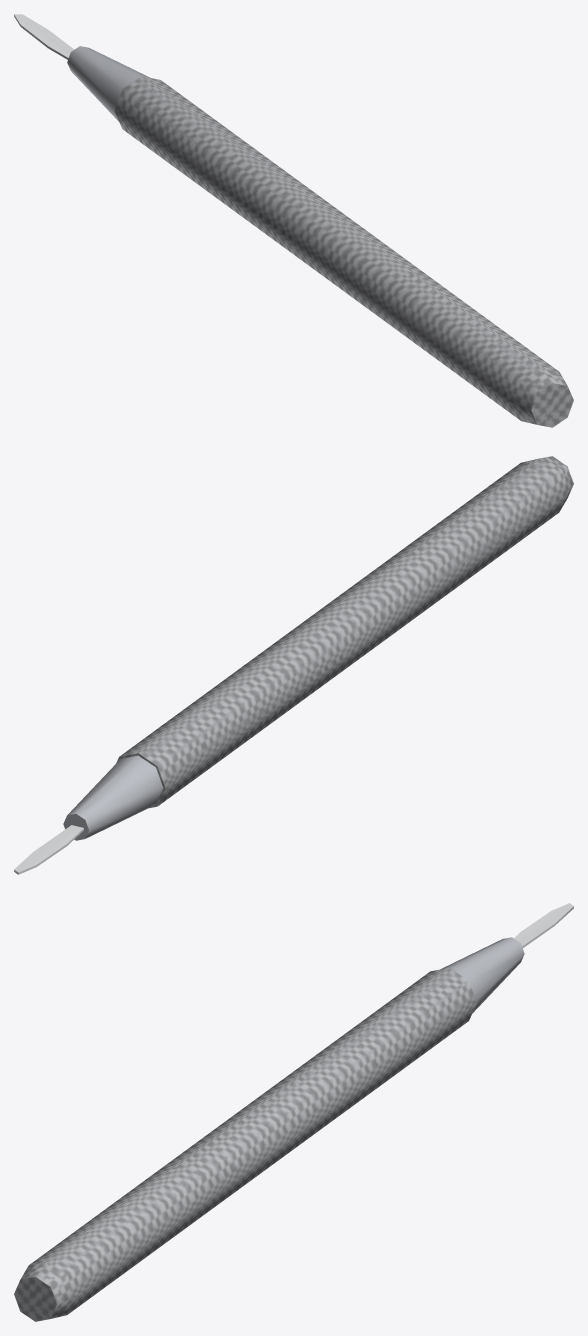
Rendered from beaver_handle.glb.
3 views of the same model, one above another, from view 1: azimuth 30°, elevation 25°; view 2: azimuth 150°, elevation 25°; view 3: azimuth 330°, elevation 25° (orthographic).
Visible parts, largest first — view 1: m6_beaver_handle; view 2: m6_beaver_handle; view 3: m6_beaver_handle.
Part boxes in pixels (x1,y1,x2,y2): m6_beaver_handle: (14, 14, 573, 427); m6_beaver_handle: (14, 456, 573, 874); m6_beaver_handle: (14, 903, 573, 1321).
Bounding box in the file's own units: 0.0076 × 0.0076 × 0.13.
Materials: 1 (1 with a texture image).
